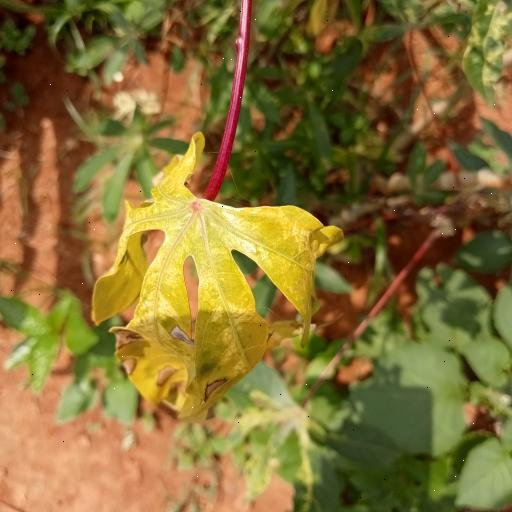Cassava_Brown_Leaf_Spot: (92, 129, 346, 419)
